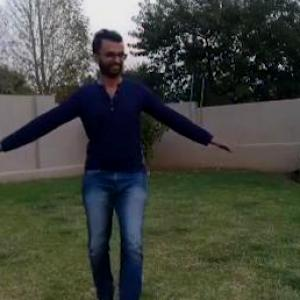land: (1, 14, 262, 299)
